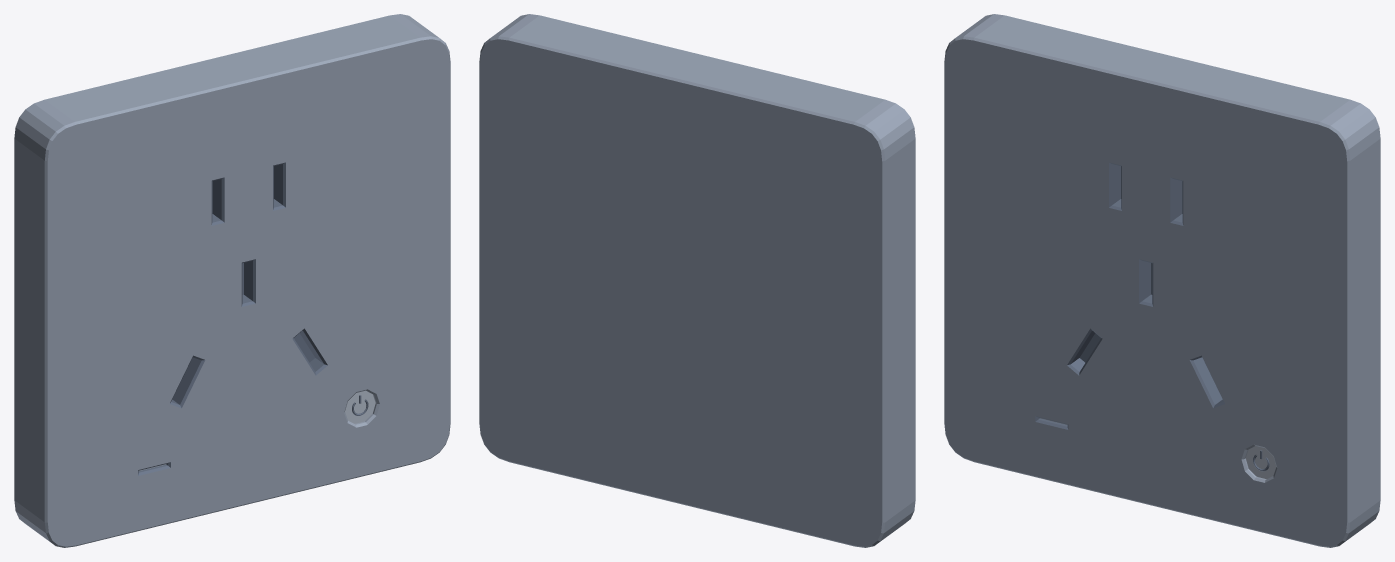
The model's file is 86型智能插座-lite.glb.
The picture shows the model from 3 angles, left to right: view 1: azimuth 30°, elevation 25°; view 2: azimuth 150°, elevation 25°; view 3: azimuth 330°, elevation 25°; orthographic projection.
Visible parts, largest first — view 1: smart-socket-86; view 2: smart-socket-86; view 3: smart-socket-86.
Boxes of the visible parts, x1=… form: smart-socket-86: x1=14, y1=14, x2=450, y2=547; smart-socket-86: x1=479, y1=14, x2=915, y2=547; smart-socket-86: x1=944, y1=14, x2=1380, y2=547.
Size of the model in its own units: 0.086 by 0.086 by 0.012.
